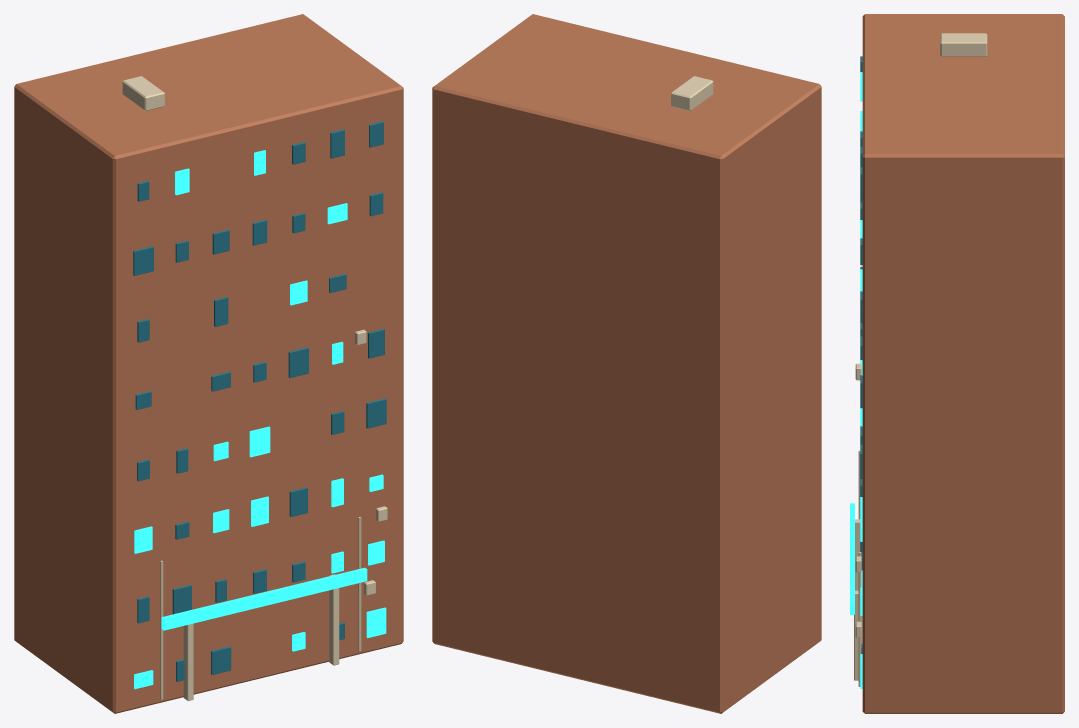
File: building_018_seed11.glb
3 views of the same model, side by side, from view 1: azimuth 30°, elevation 25°; view 2: azimuth 150°, elevation 25°; view 3: azimuth 270°, elevation 25° (orthographic).
Visible parts, largest first — view 1: building_018_seed11; view 2: building_018_seed11; view 3: building_018_seed11.
Boxes of the visible parts, x1=… form: building_018_seed11: x1=14, y1=14, x2=403, y2=713; building_018_seed11: x1=432, y1=14, x2=821, y2=713; building_018_seed11: x1=850, y1=14, x2=1064, y2=713.
Bounding box in the file's own units: 10.46 × 19.65 × 6.67.
